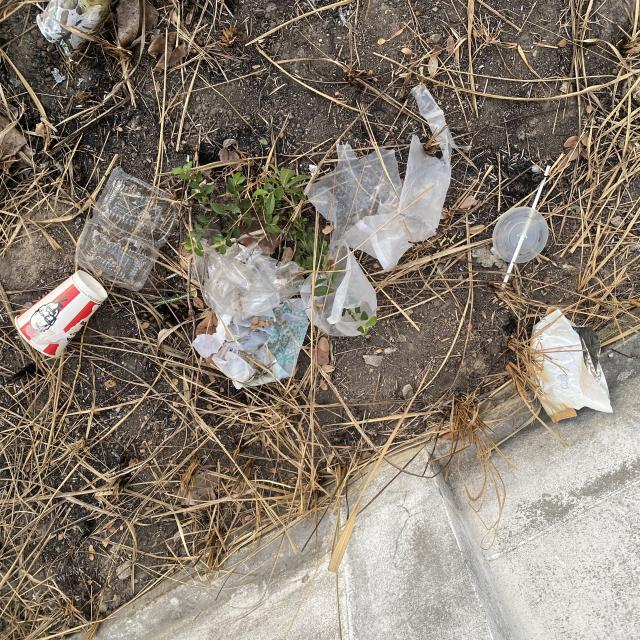Single-layer Plastic: (308, 85, 455, 270), (192, 299, 309, 389), (191, 241, 304, 319), (300, 244, 378, 336)
